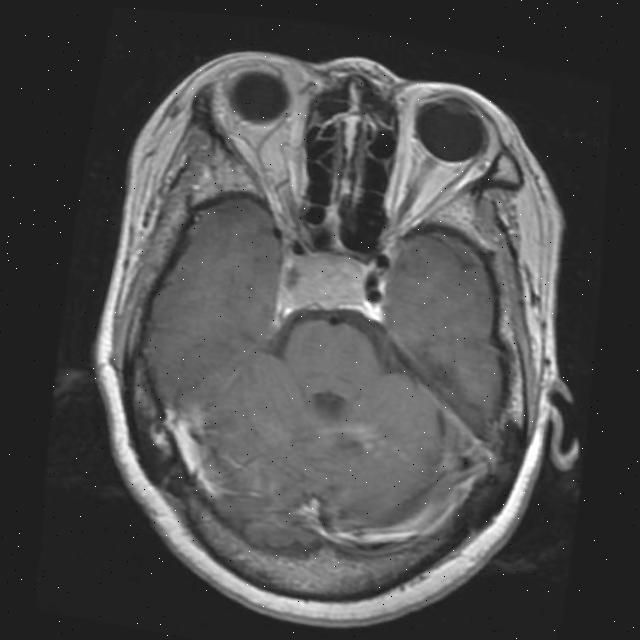Pituitary: (276, 241, 375, 325)
